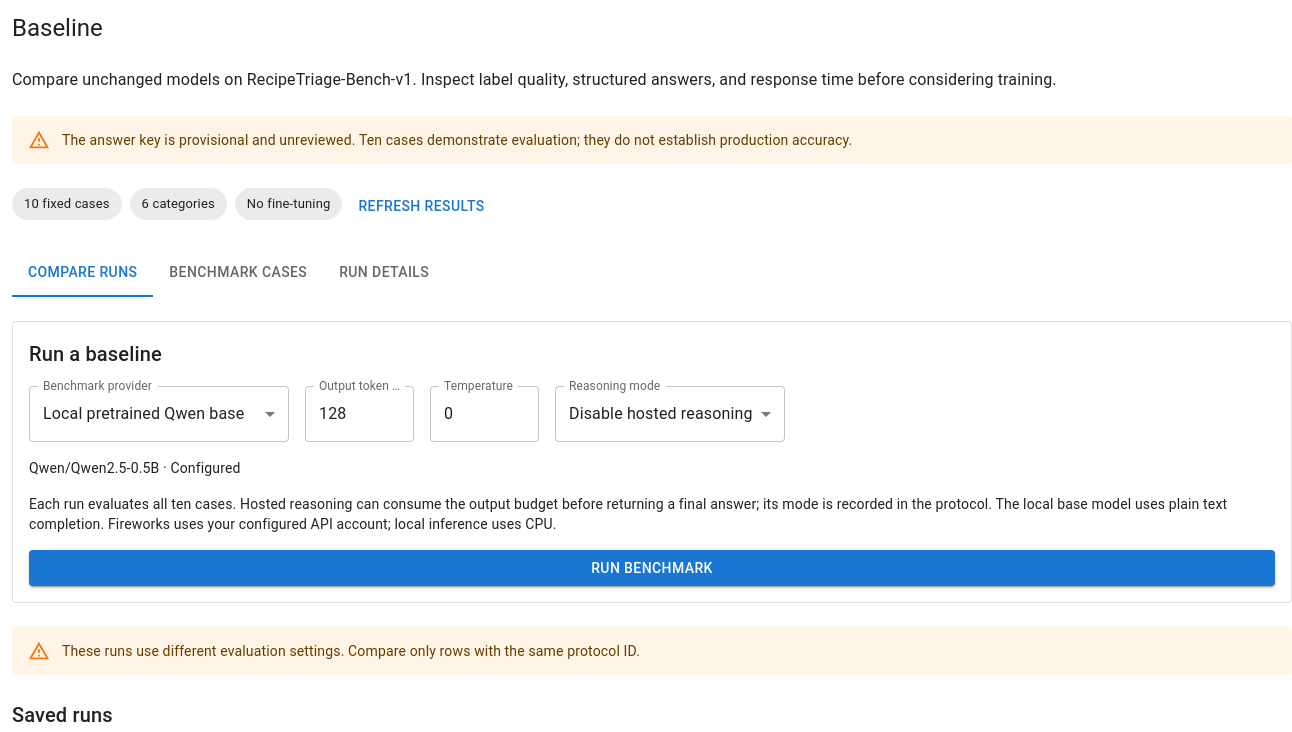
Test: warns on mixed protocols and exposes frozen benchmark cases
The width and height of the screenshot is (1292, 732).
Check: the text "different evaluation settings" is shown, box [62,643,640,659]
Step 1. Click the tab "Benchmark cases" → x=238, y=272, box [153,248,323,296]
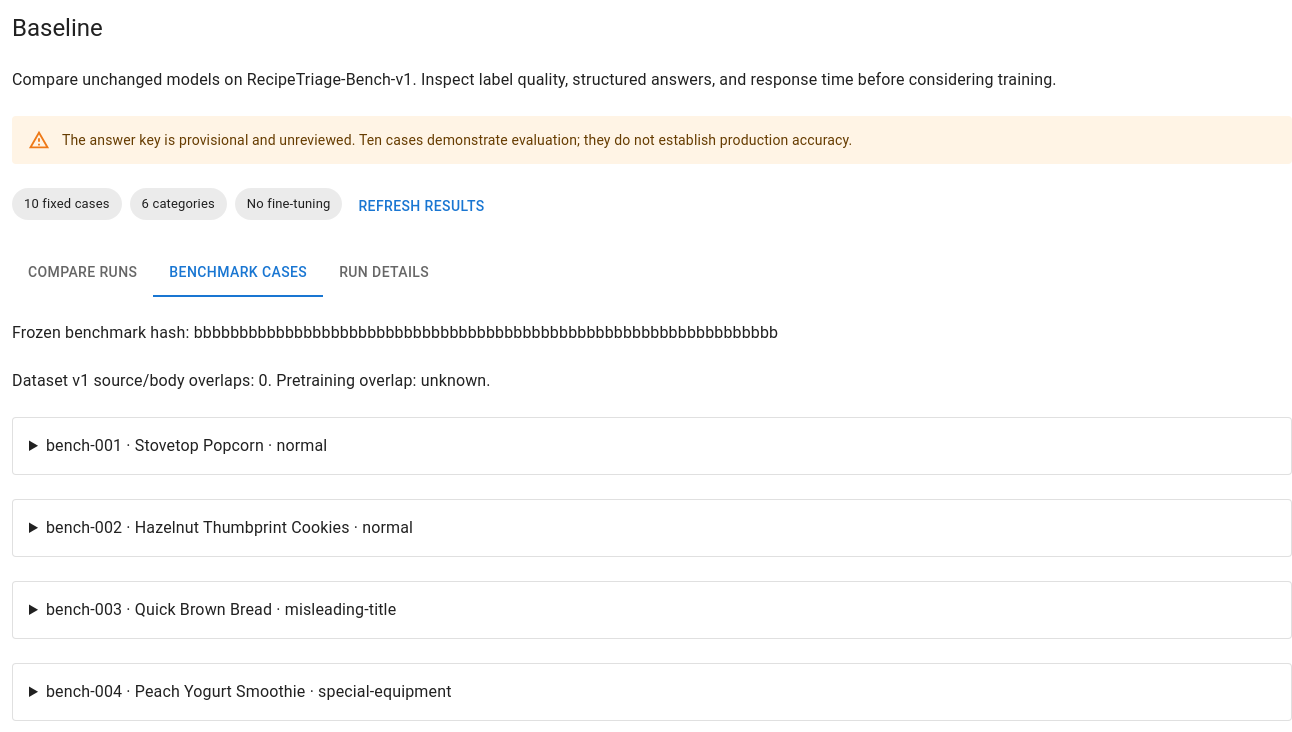
Check: the heading "bench-003 · Quick Brown Bread · misleading-title" is shown, box [46,600,396,618]
